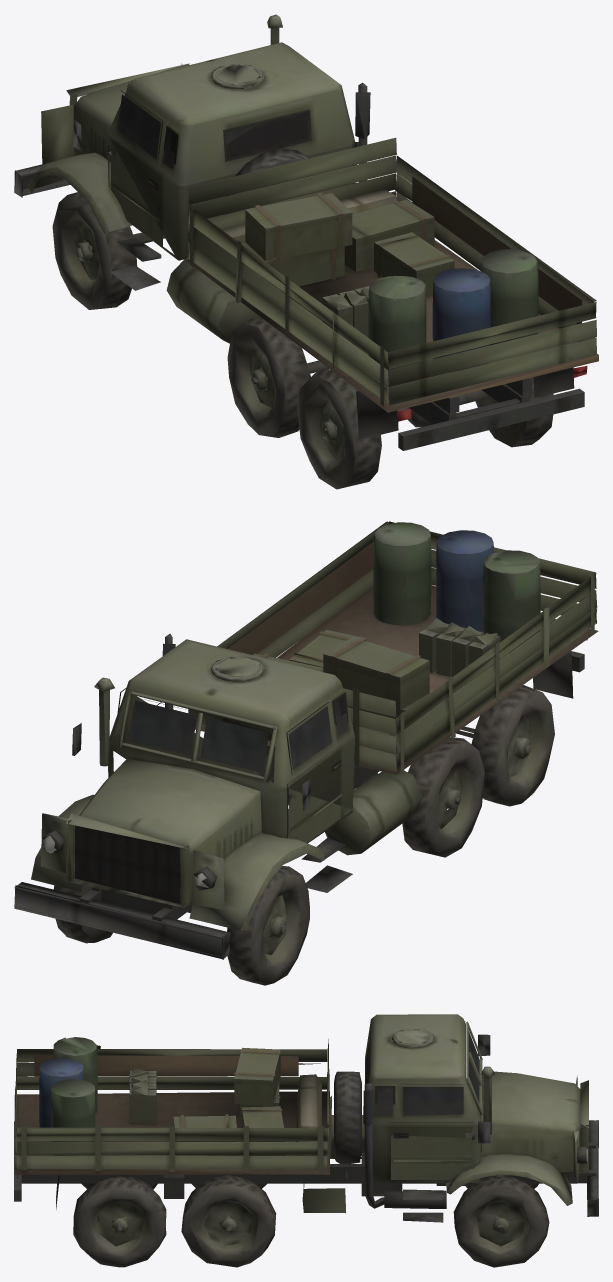
File: truck_lod1.glb
The picture shows the model from 3 angles, top to bottom: view 1: azimuth 30°, elevation 25°; view 2: azimuth 150°, elevation 25°; view 3: azimuth 270°, elevation 25°; orthographic projection. The views are drawn at different scales.
Parts seen in each view (by area): view 1: body; view 2: body; view 3: body.
Part boxes in pixels (x1,y1,x2,y2): body: [14, 14, 598, 489]; body: [14, 521, 598, 985]; body: [14, 1014, 598, 1267].
Bounding box in the file's own units: 2.67 × 2.8 × 7.52.
1 material, 1 textured.
